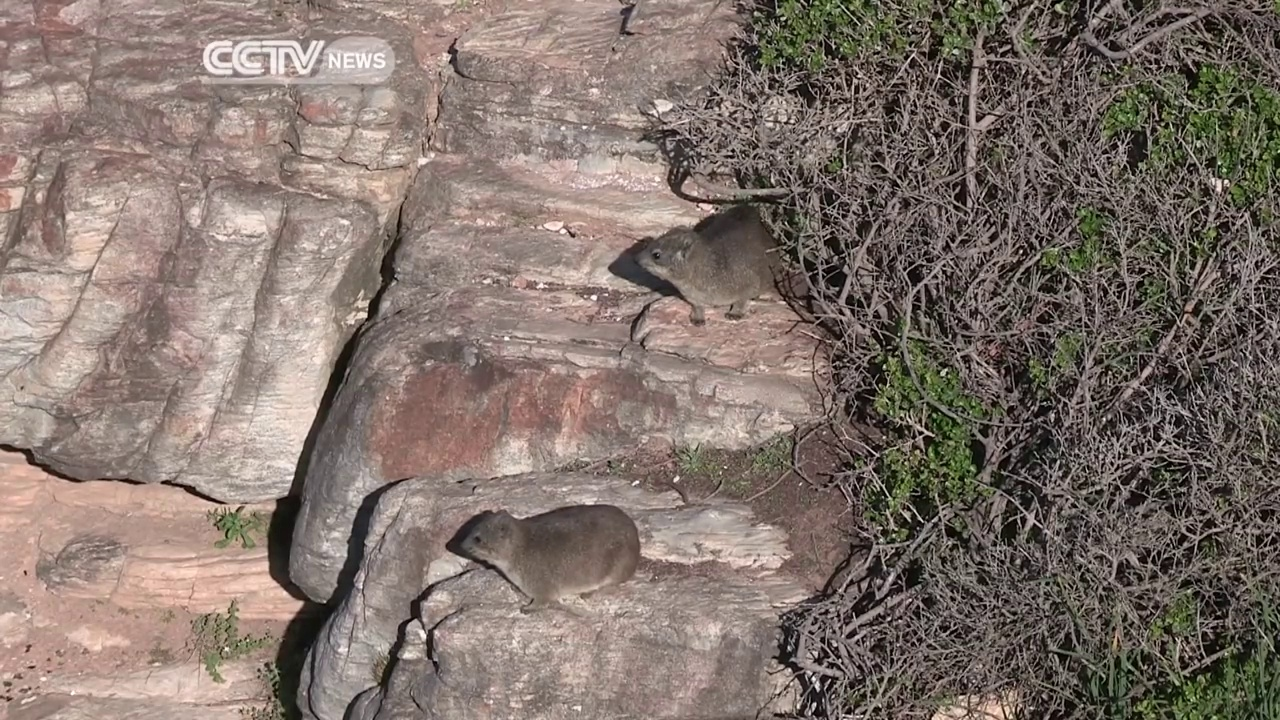Rock Hyrex: (447, 505, 641, 626), (631, 203, 788, 329)
